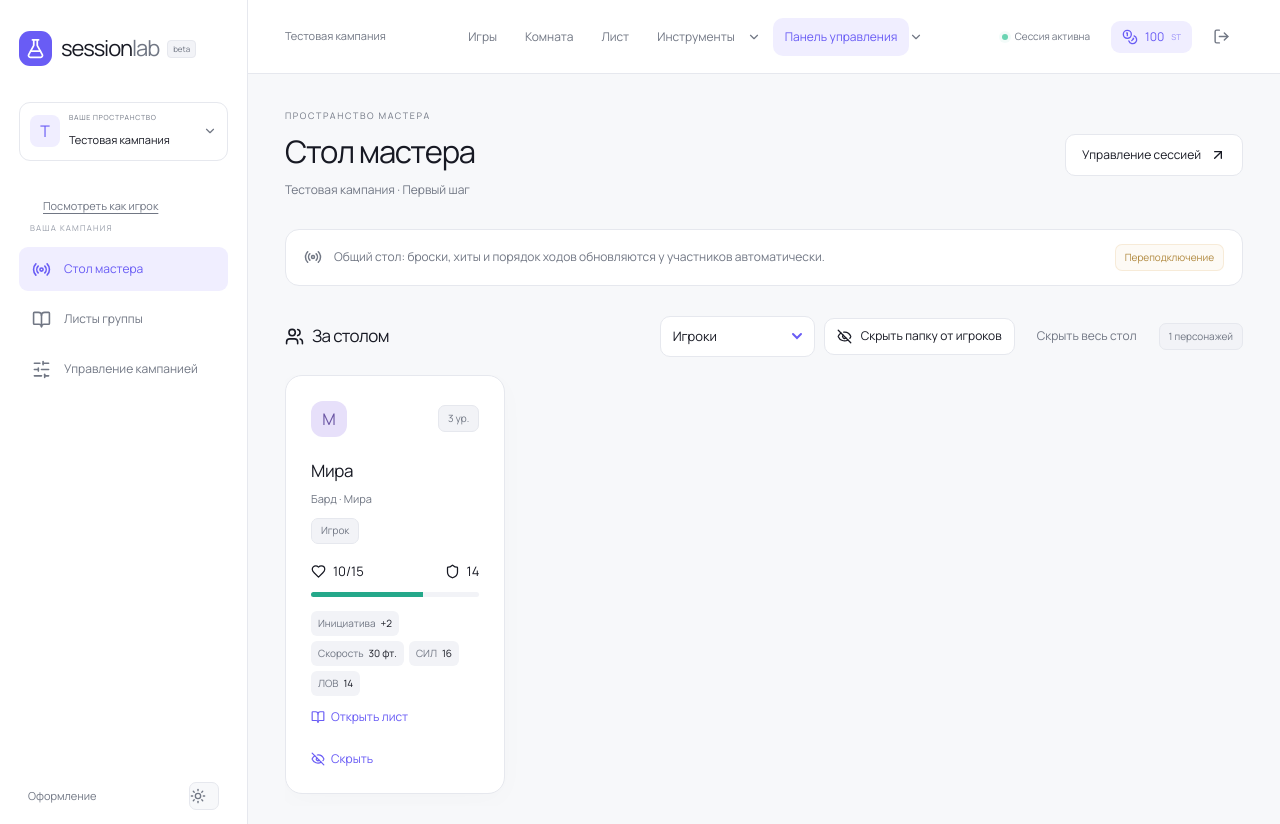
it: lets a master filter table cards by folder and hide a character without taking away their dice
Select "Противники" in the dropdown named "Папка за столом": {"x": 737, "y": 336} [660,316,815,357]
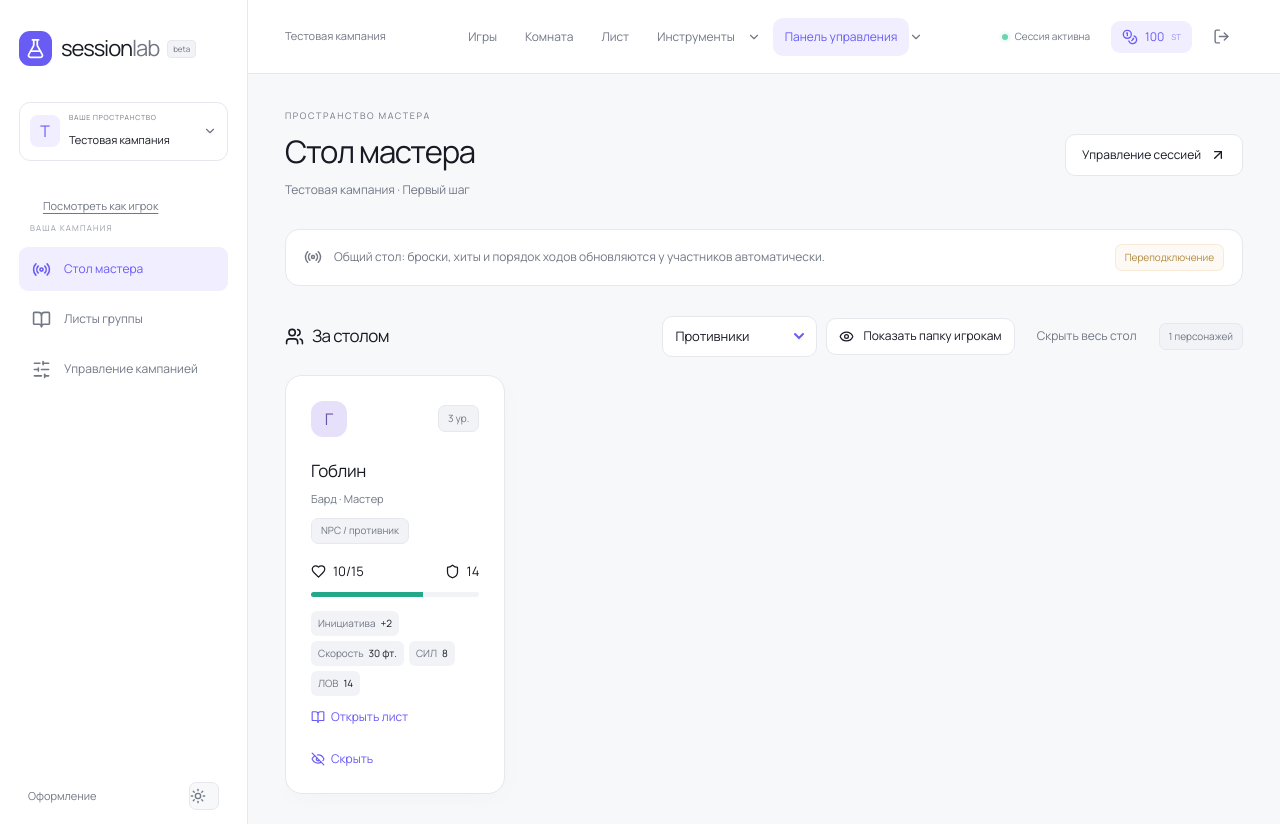
Expected: the text "Инициатива +2" is shown, [311,611,399,636]
Result: the heading "Гоблин" is shown at [311,458,366,484]
Select "Игроки" in the dropdown named "Папка за столом": {"x": 740, "y": 336} [662,316,817,357]
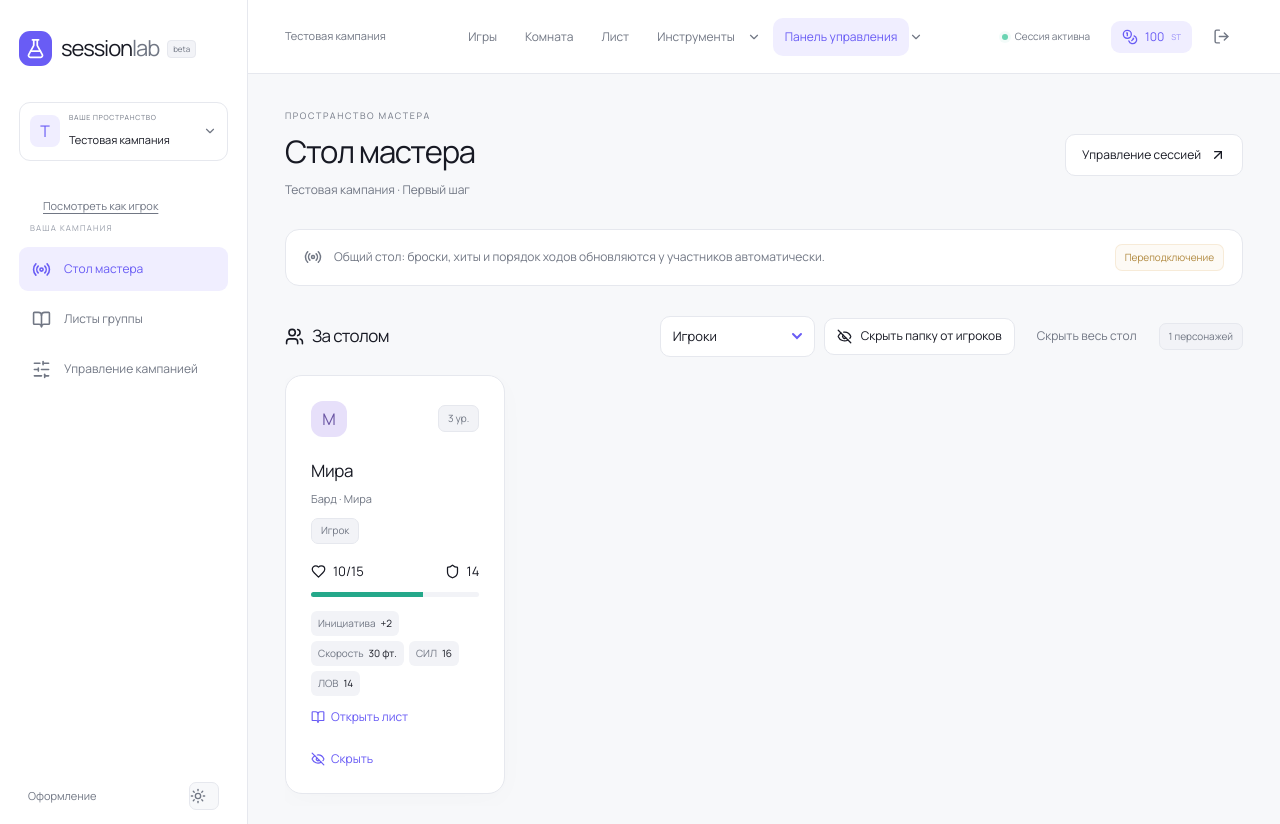
Click the button with aria-label "Скрыть Мира игрокам": {"x": 342, "y": 759} [311,750,373,768]
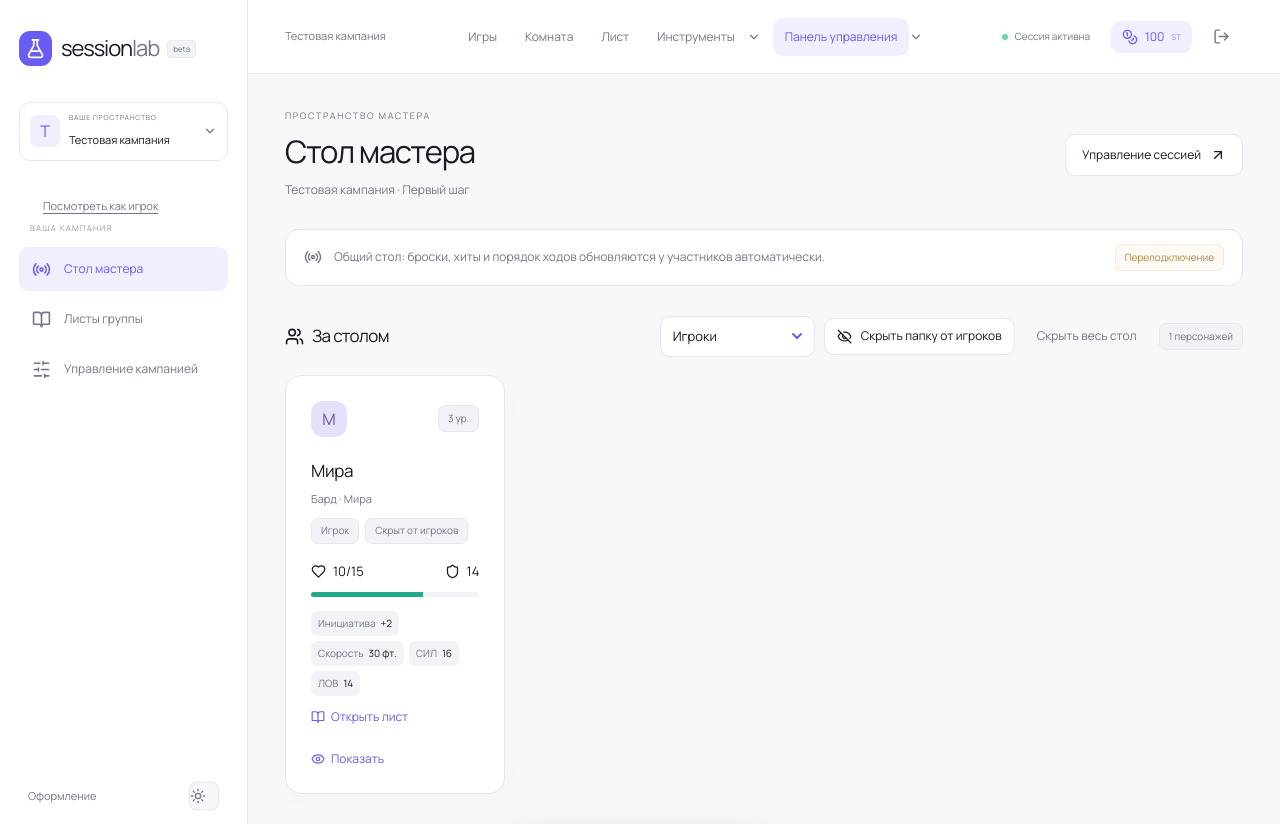
Click the link "Посмотреть как игрок": {"x": 101, "y": 205} [43,198,158,212]
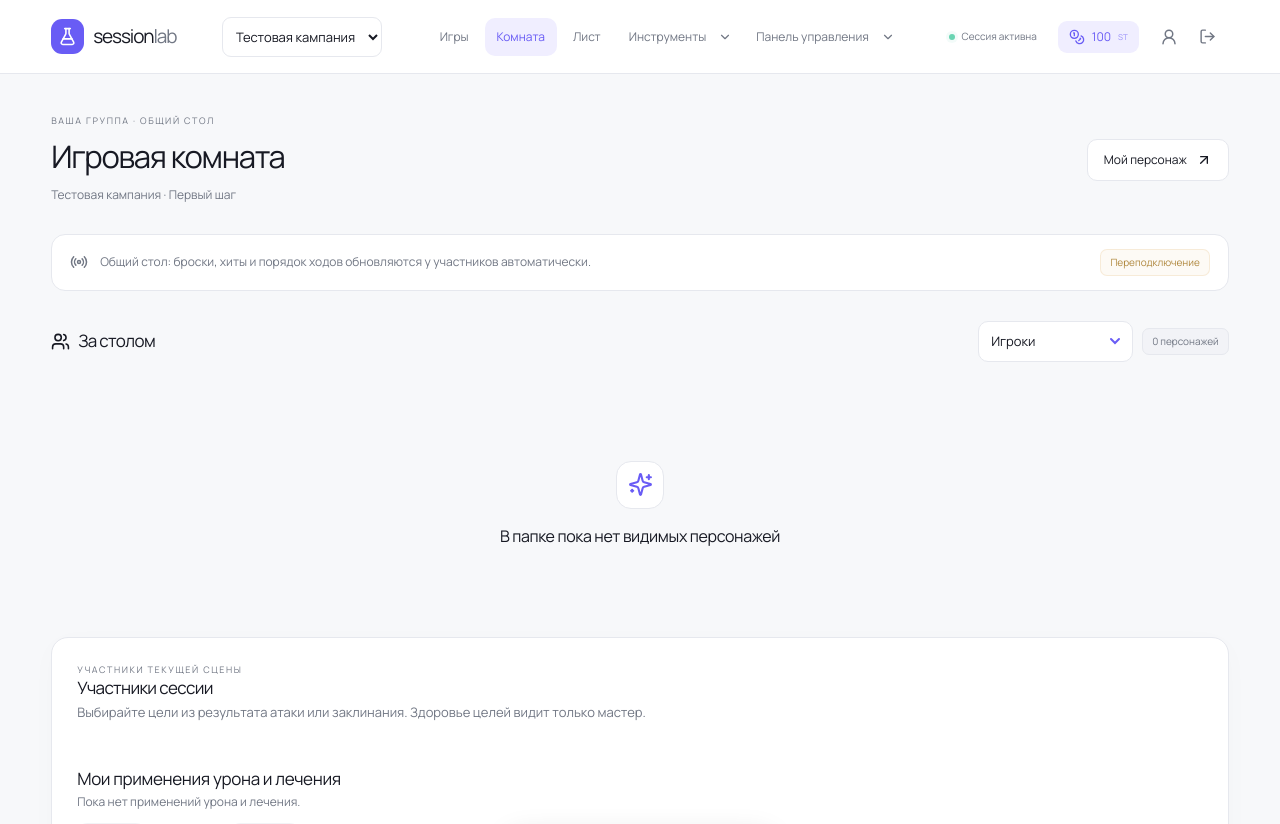
Result: the dropdown named "Папка за столом" shows "Игроки" at [978,321,1133,362]
Result: the heading "Игровая комната" is shown at [51,136,285,176]
